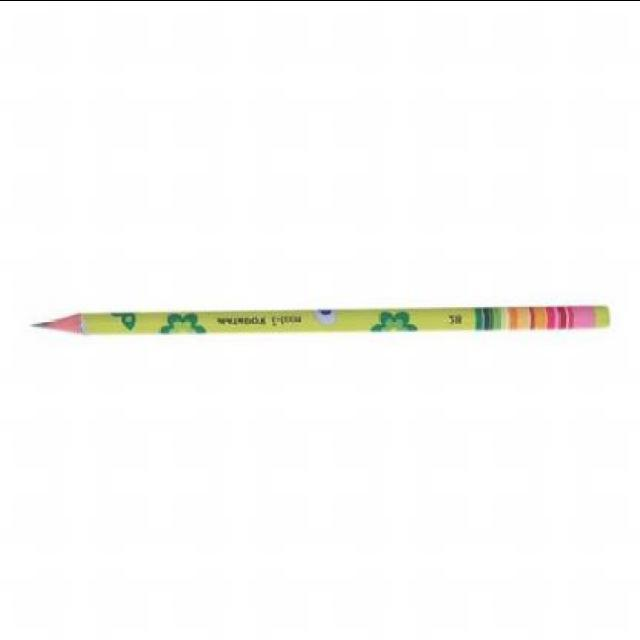pencil: (25, 300, 144, 344)
